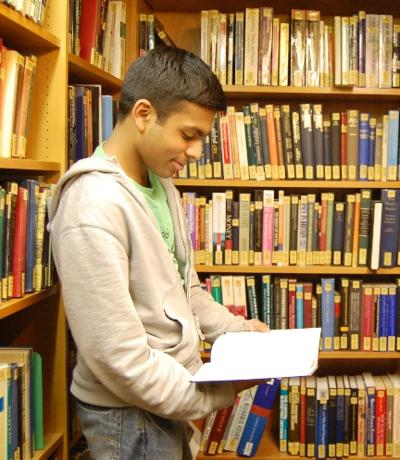person: (47, 48, 276, 460)
